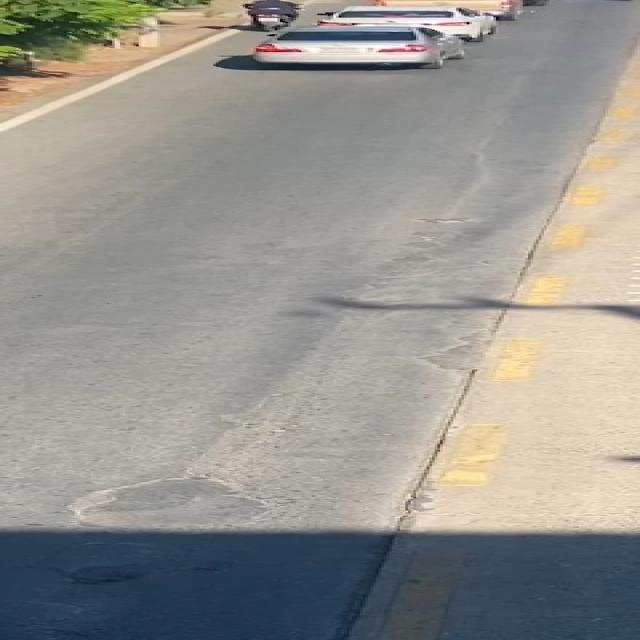car: (232, 27, 480, 76), (301, 2, 526, 44)
